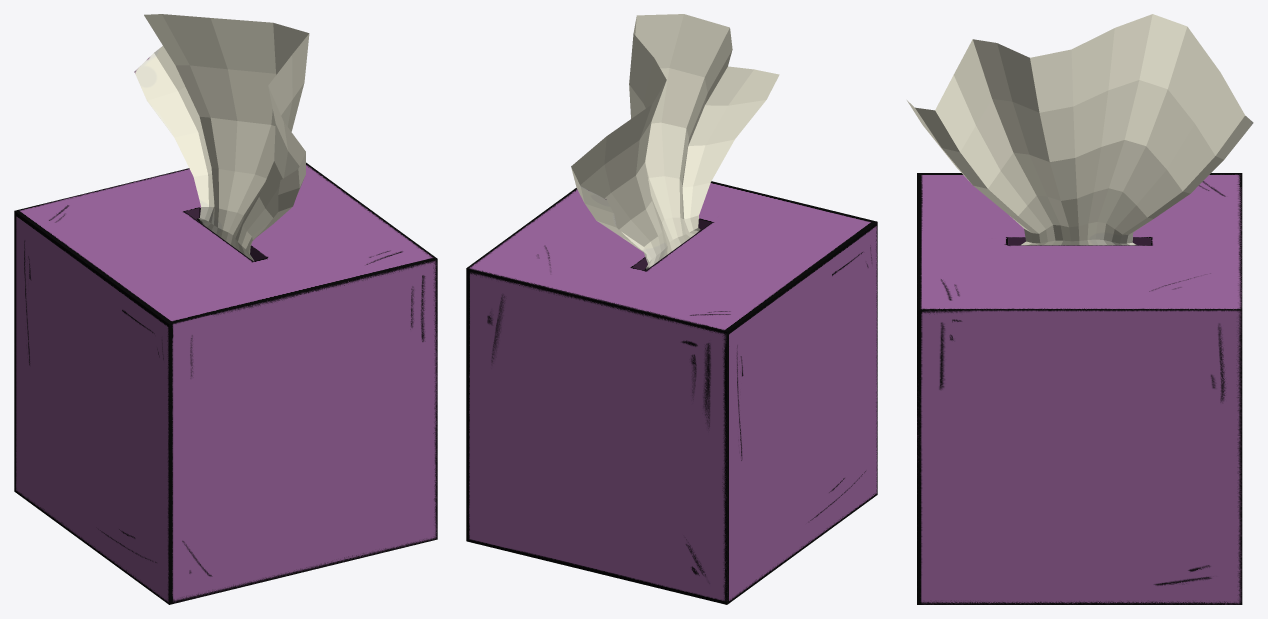
File: tissuebox.fbx
3 renders of one model, left to right at view 1: azimuth 30°, elevation 25°; view 2: azimuth 150°, elevation 25°; view 3: azimuth 270°, elevation 25°, orthographic. The views are drawn at different scales.
Parts seen in each view (by area): view 1: tissuebox; view 2: tissuebox; view 3: tissuebox.
Boxes of the visible parts, left/top/right/bottom form: tissuebox: left=14, top=14, right=437, bottom=604; tissuebox: left=466, top=14, right=877, bottom=604; tissuebox: left=907, top=14, right=1253, bottom=604.
Bounding box in the file's own units: 631 × 1091 × 675.
Materials: 1 (1 with a texture image).
